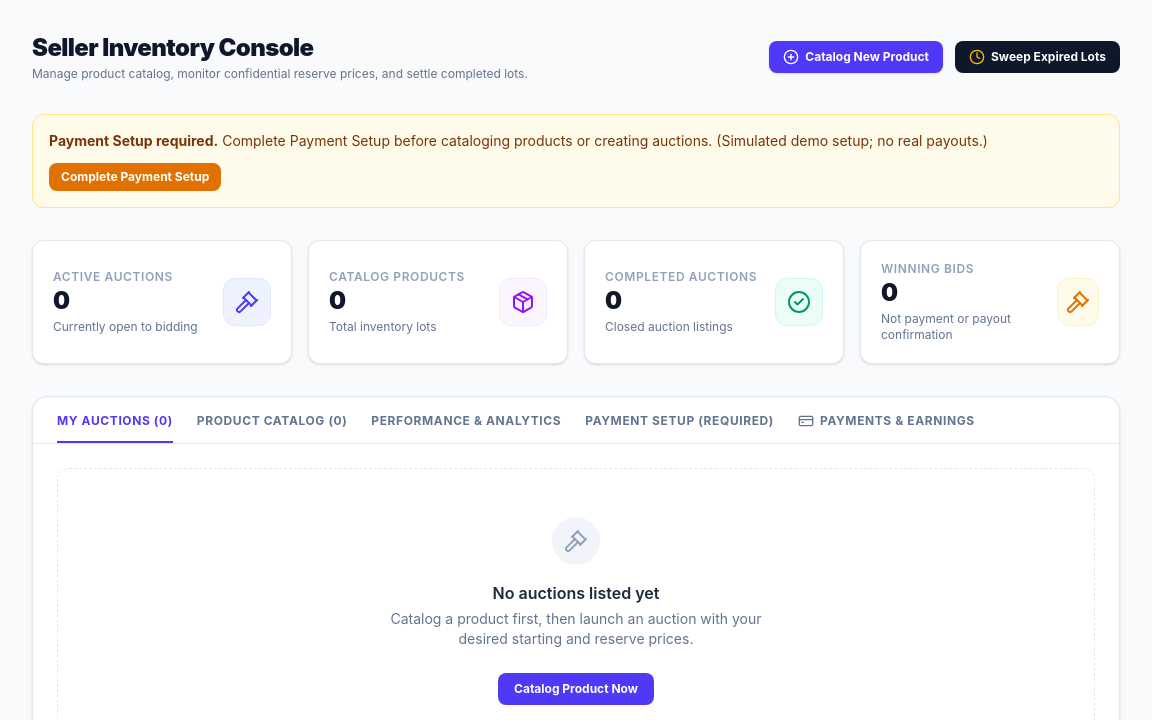
Test case: Seller dashboard gating › blocks the catalog button and opens Payment Setup when setup is incomplete
Expected: the text "Payment Setup required." is shown, [49,132,218,149]
Step 1. Click the button "Catalog New Product" → (856,57), box [769,41,943,73]
(page scrolled)
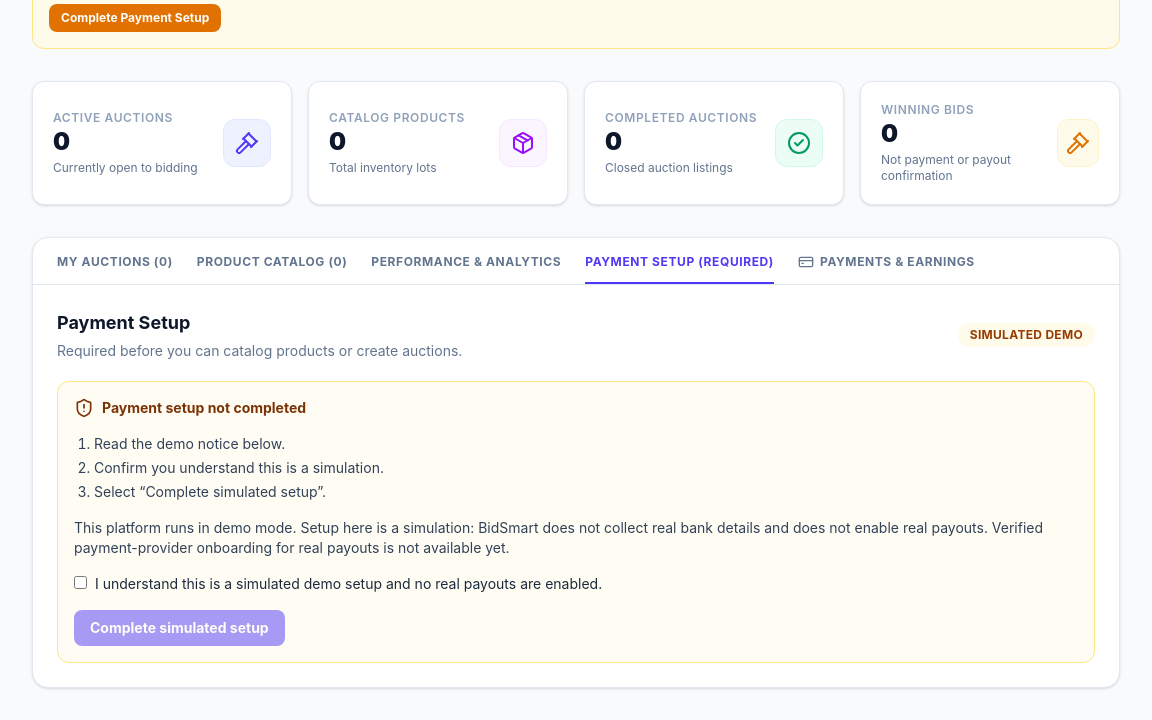
Expected: the heading "Catalog New Product" is not shown
Now the button "Complete simulated setup" is shown, box [74,610,285,646]
